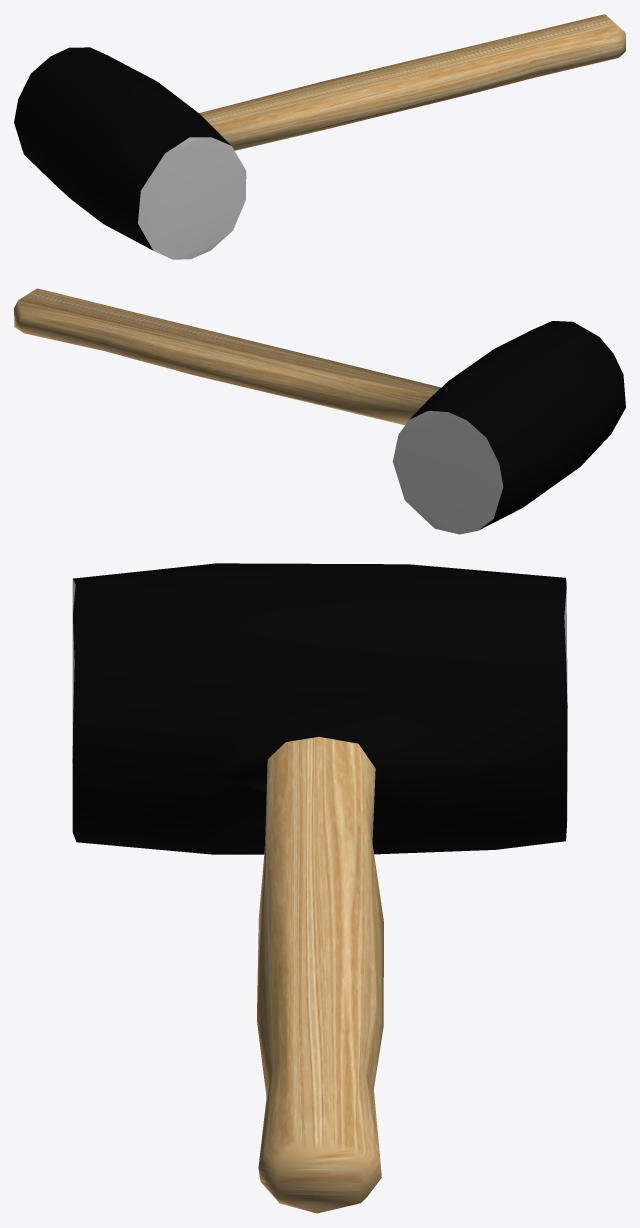
Rendered from Mazo.obj.
3 views of the same model, one above another, from view 1: azimuth 30°, elevation 25°; view 2: azimuth 150°, elevation 25°; view 3: azimuth 270°, elevation 25° (orthographic). The views are drawn at different scales.
Visible parts, largest first — view 1: 13060_Rubber_Mallet_v1_l3, TapaIzq; view 2: 13060_Rubber_Mallet_v1_l3, TapaDer; view 3: 13060_Rubber_Mallet_v1_l3.
Boxes of the visible parts, x1,y1,x2,y2 form: 13060_Rubber_Mallet_v1_l3: (14, 14, 625, 250); TapaIzq: (138, 137, 246, 259); 13060_Rubber_Mallet_v1_l3: (14, 288, 625, 530); TapaDer: (392, 411, 503, 534); 13060_Rubber_Mallet_v1_l3: (72, 563, 567, 1213).
Size of the model in its own units: 1.55 by 0.3574 by 0.6052.
